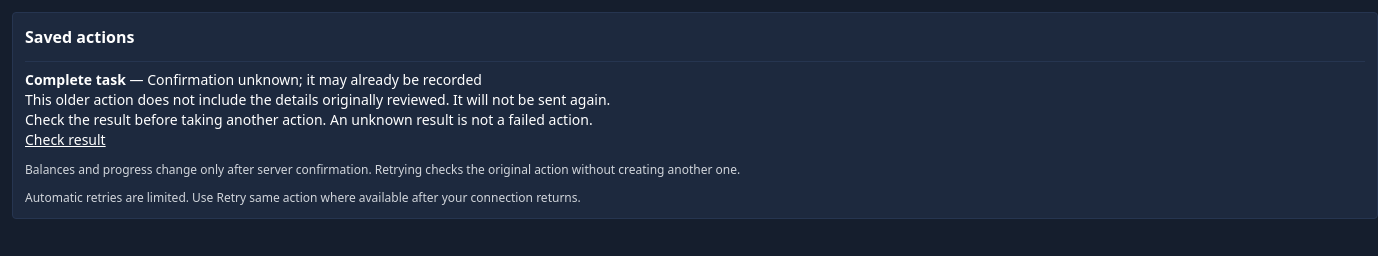
saved-result controls remain scoped during asynchronous work › keeps a same-connection unknown action receipt-only with no replacement link
The width and height of the screenshot is (1378, 256).
Check: the text "unknown result is not a failed action" is shown, box [25,110,593,129]
Click the button "Check result".
click(65, 140)  # box [25,130,106,150]
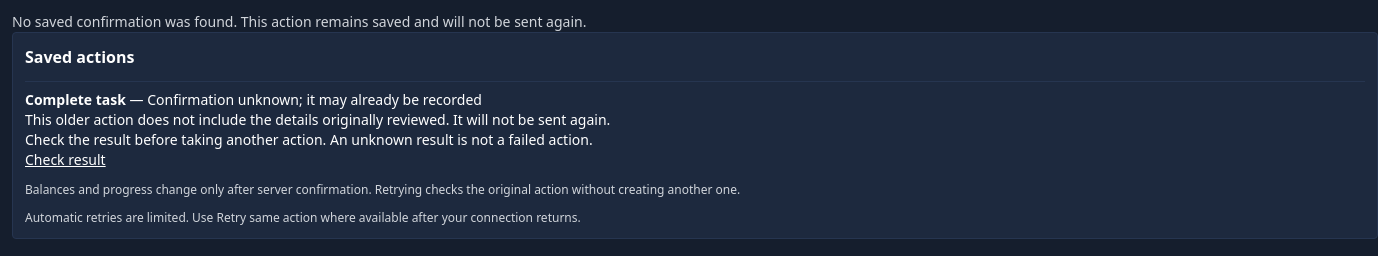
Check: the text "No saved confirmation was found. This action remains saved and will not be sent again." is shown, box [12,12,586,31]
